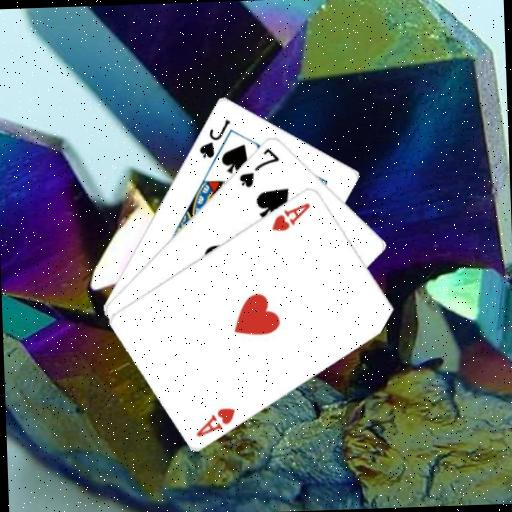7S: (235, 143, 282, 189)
AH: (191, 403, 237, 438), (267, 198, 313, 232)
JS: (195, 116, 233, 160)
